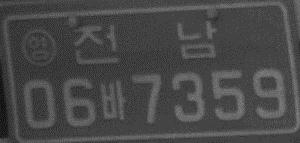0: (22, 78, 58, 131)
3: (170, 71, 205, 123)
5: (210, 69, 247, 122)
6: (62, 76, 95, 128)
7: (130, 72, 162, 124)
9: (251, 68, 286, 118)
바: (99, 80, 127, 120)
영: (20, 28, 57, 68)
전남_D: (72, 21, 216, 66)
